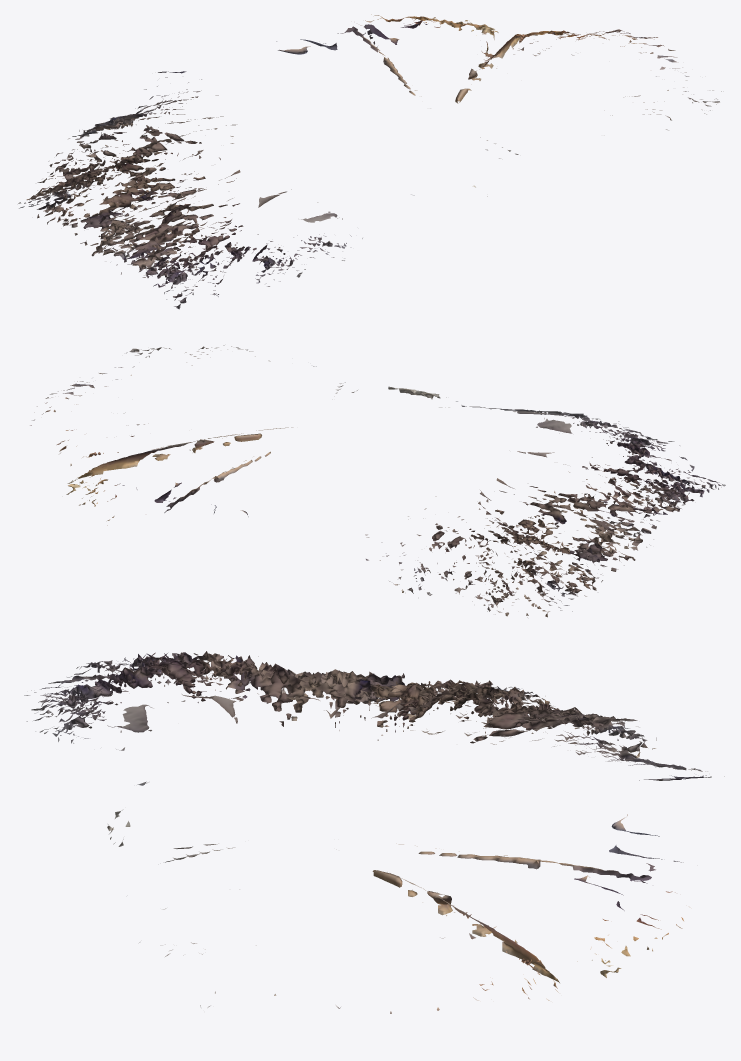
The model's file is world-1770441689889.glb.
3 views of the same model, one above another, from view 1: azimuth 30°, elevation 25°; view 2: azimuth 150°, elevation 25°; view 3: azimuth 270°, elevation 25° (orthographic). The views are drawn at different scales.
Visible parts, largest first — view 1: world; view 2: world; view 3: world.
Part boxes in pixels (left/top/right/bottom): world: left=18, top=14, right=723, bottom=309; world: left=30, top=345, right=725, bottom=617; world: left=24, top=651, right=724, bottom=1013.
Size of the model in its own units: 142 by 14.99 by 102.
